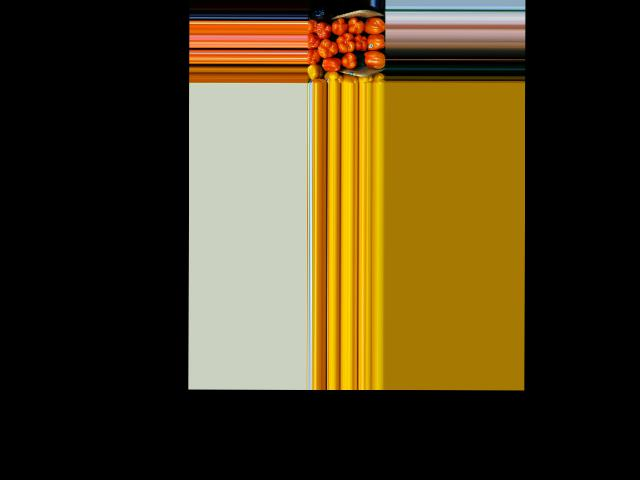bell_pepper: (323, 72, 345, 81)
